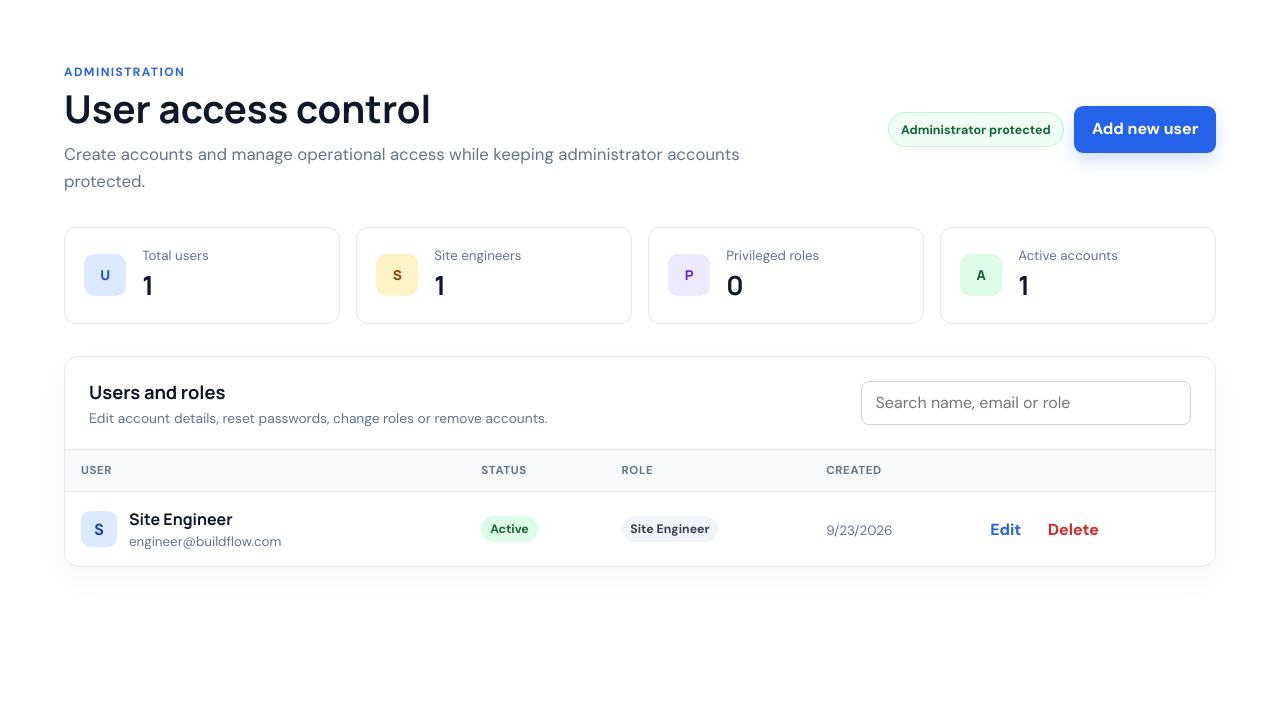
Test: AdminDashboardPage › creates a user with an administrator-selected role
The image size is (1280, 720).
Check: the text "engineer@buildflow.com" is shown, box [129, 533, 281, 550]
Click the button "Add new user".
click(1145, 129)  # box [1074, 106, 1216, 152]
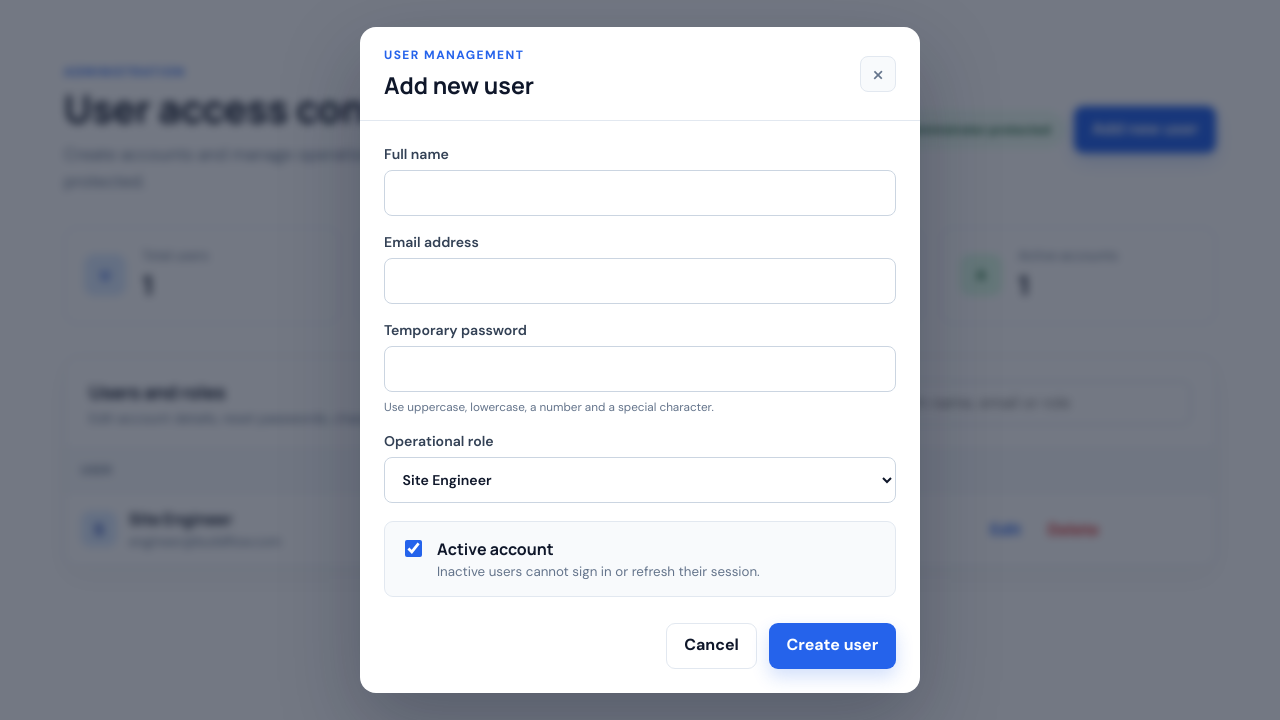
Type "Project Manager" into the field labelled "Full name".
click(640, 192); type("Project Manager")  # box [384, 170, 896, 216]
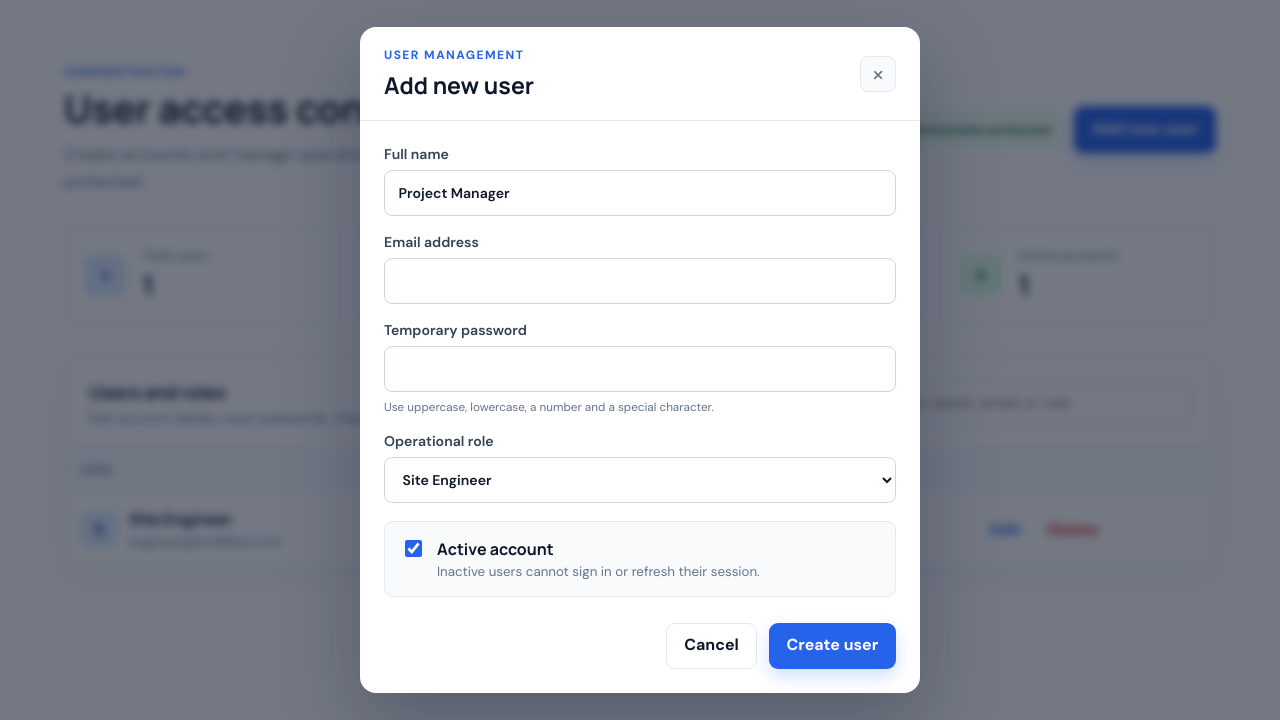
Type "manager@buildflow.com" into the field labelled "Email address".
click(640, 281); type("manager@buildflow.com")  # box [384, 258, 896, 304]
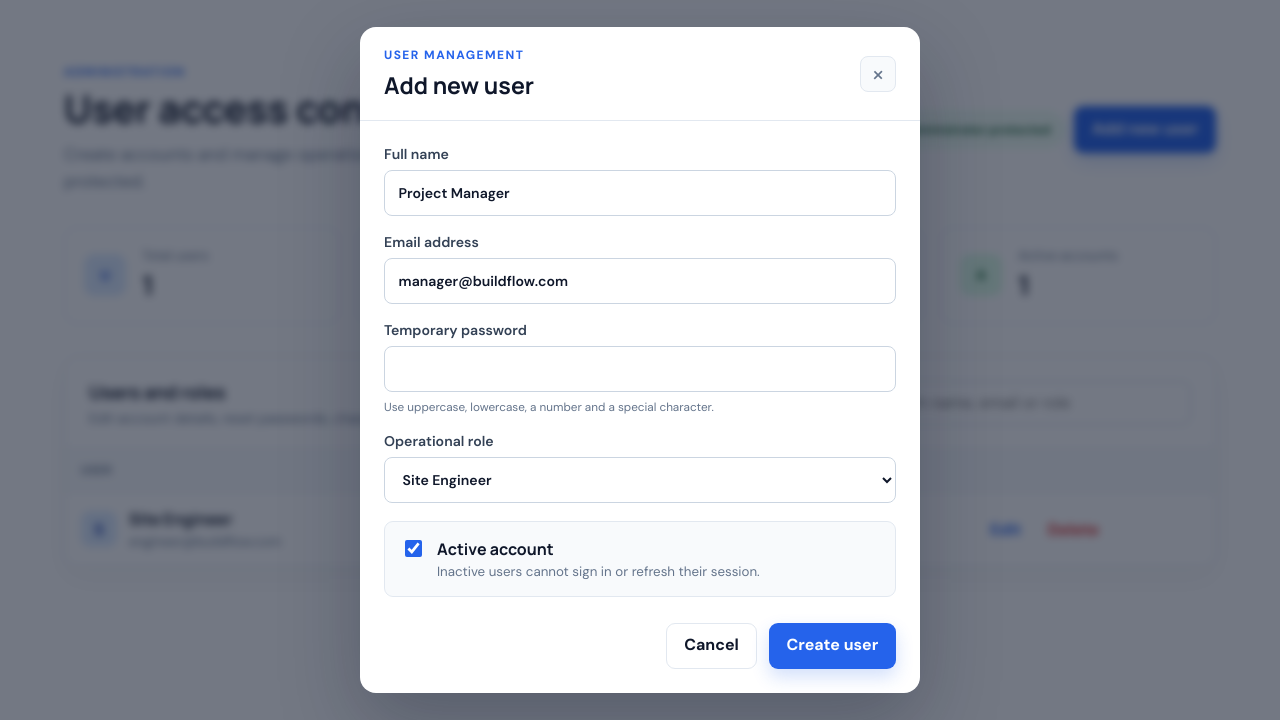
Type "Manager@1234" into the password field labelled "Temporary password".
click(640, 369); type("Manager@1234")  # box [384, 346, 896, 392]
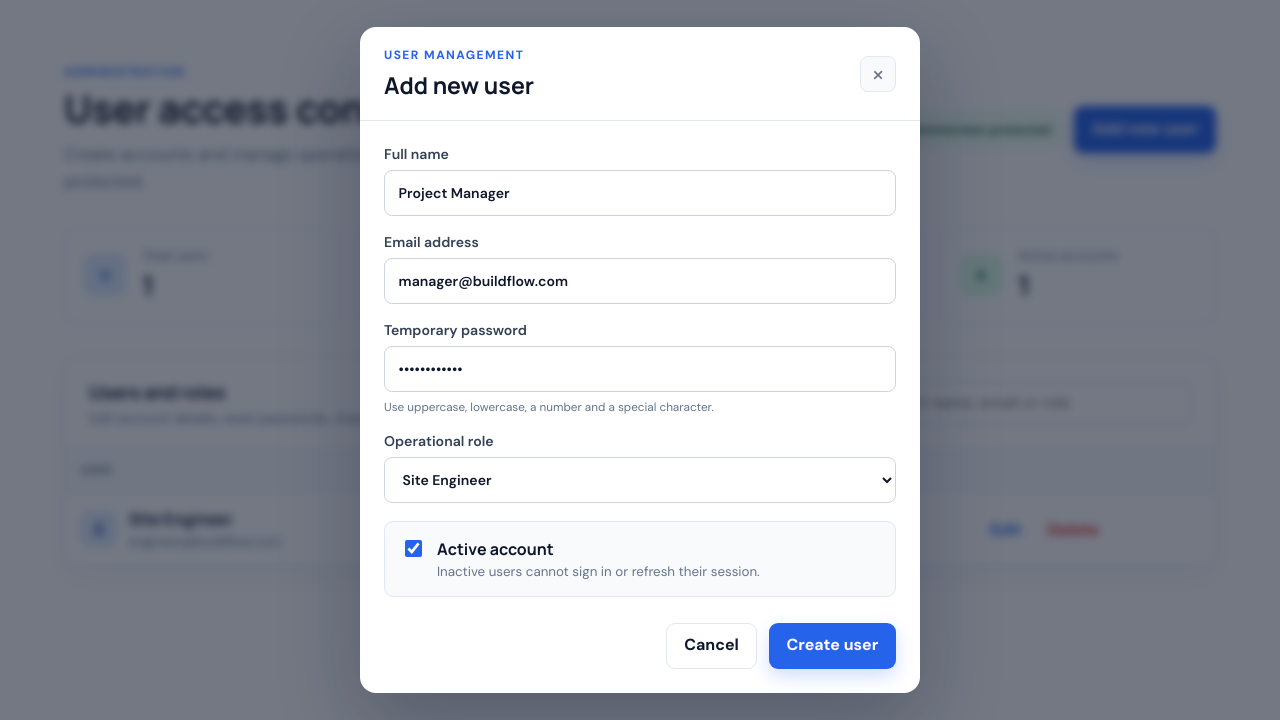
Select "Project Manager" in the dropdown labelled "Operational role" at {"x": 640, "y": 480}, box [384, 457, 896, 503]
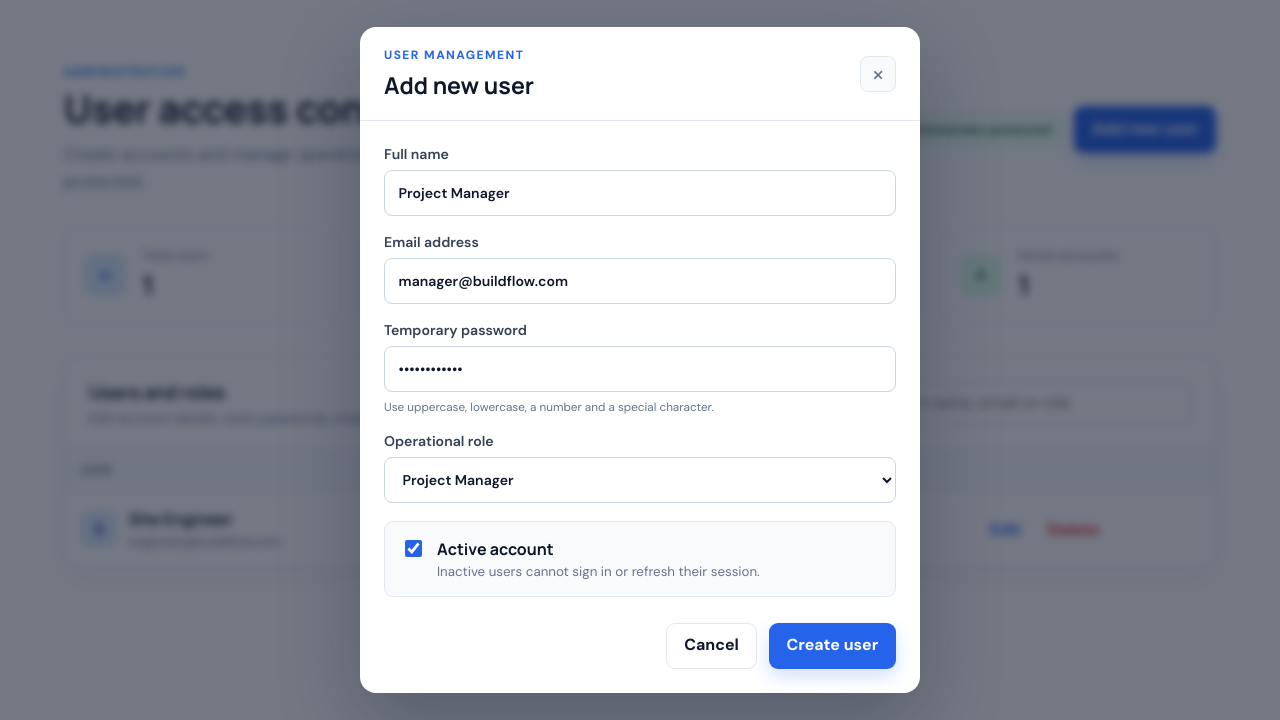
Click the button "Create user".
click(832, 646)  # box [769, 623, 896, 669]
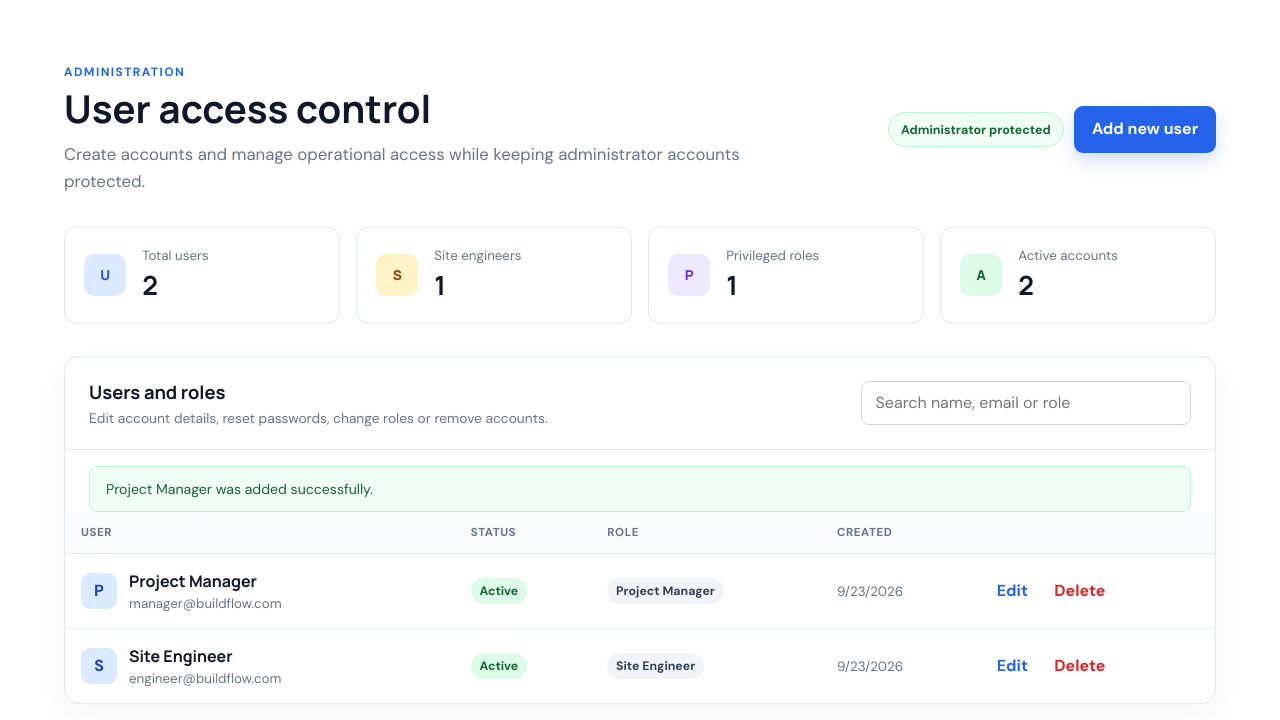
Check: the text "Project Manager was added successfully." is shown, box [89, 466, 1191, 512]
